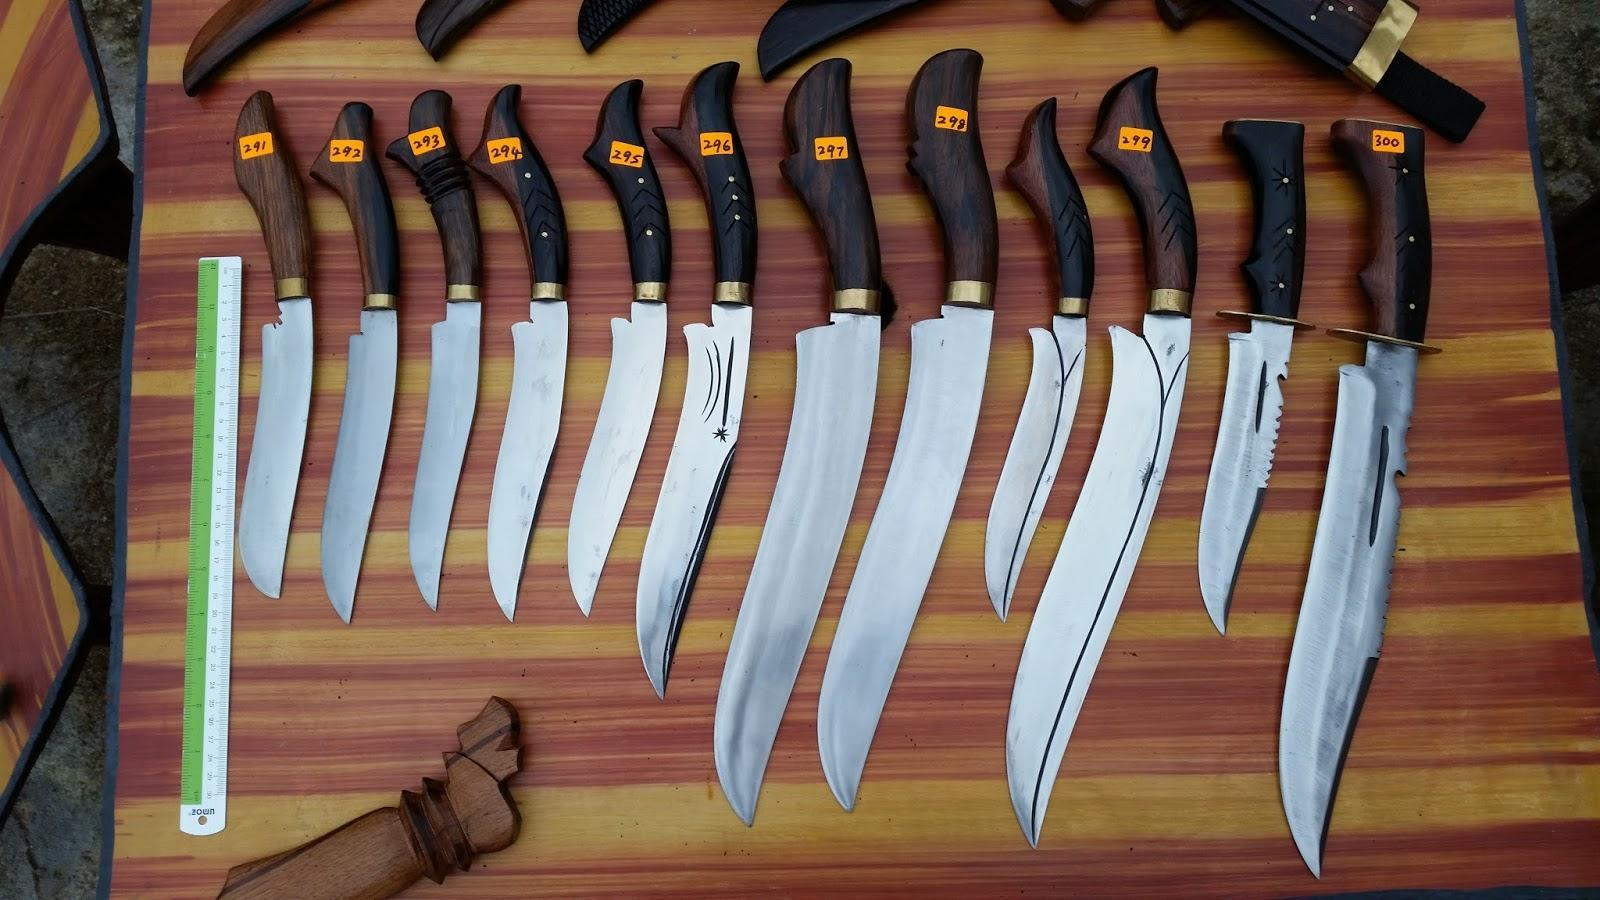faca: (637, 62, 757, 695), (985, 98, 1095, 618), (1197, 120, 1305, 634), (568, 80, 671, 615), (469, 85, 568, 618), (387, 90, 480, 610), (311, 103, 398, 621), (235, 91, 313, 597)
facao: (1005, 68, 1196, 846), (816, 49, 998, 809), (714, 58, 881, 823), (1279, 119, 1432, 875)
